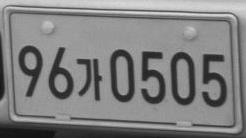0: (109, 48, 135, 103), (170, 51, 196, 106)
5: (200, 53, 228, 107), (140, 50, 166, 105)
6: (47, 46, 74, 100)
9: (17, 44, 44, 97)
가: (76, 57, 103, 101)
